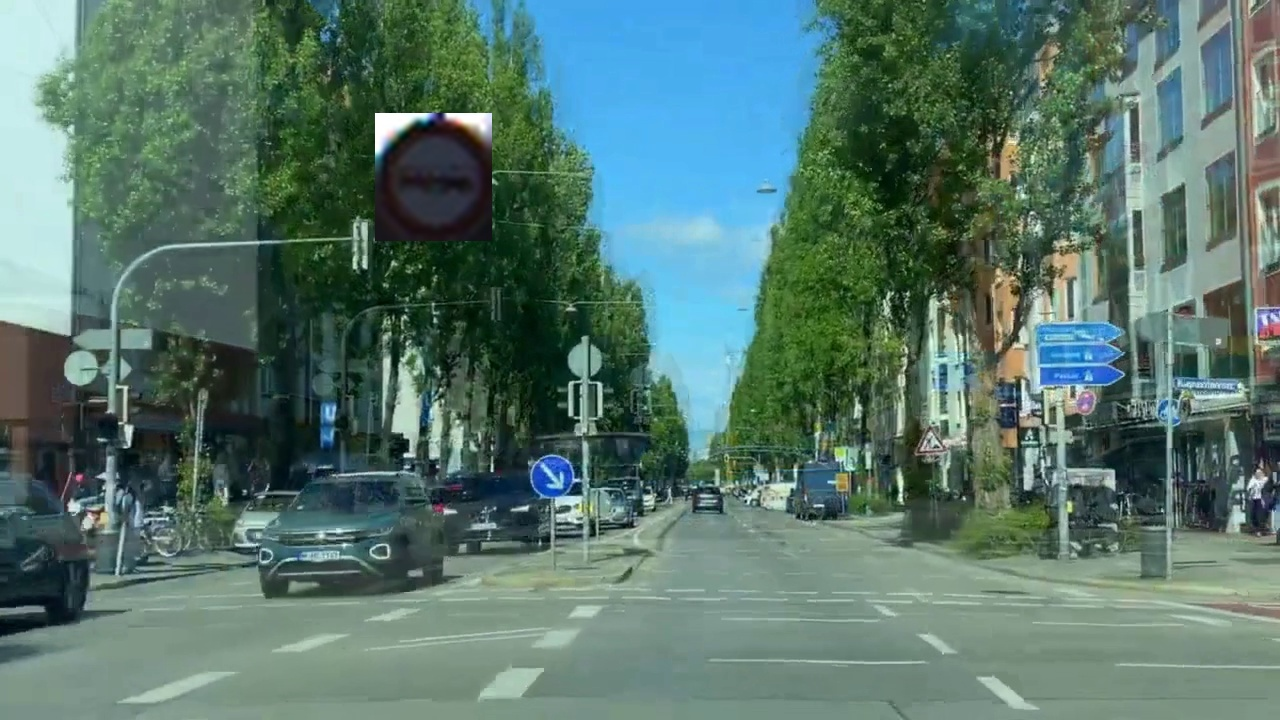No passing: (375, 113, 492, 241)
